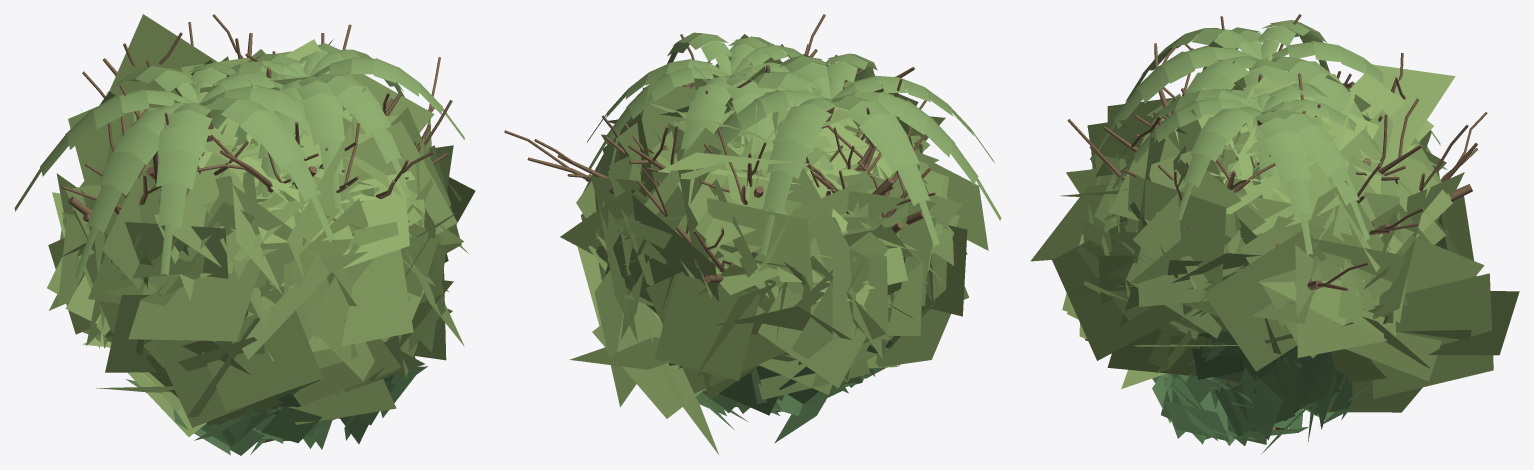
File: trees.glb
3 views of the same model, side by side, from view 1: azimuth 30°, elevation 25°; view 2: azimuth 150°, elevation 25°; view 3: azimuth 270°, elevation 25° (orthographic). The views are drawn at different scales.
Visible parts, largest first — view 1: oak2, oak0, palm1, palm0, oak1, fir1, bare0, fir0, bare2, bare1; view 2: oak2, oak0, palm1, palm0, oak1, fir1, bare2, bare0, bare1, fir0; view 3: oak2, oak0, oak1, palm0, palm1, fir1, fir0, bare0, bare1, bare2.
Boxes of the visible parts, x1,y1,x2,y2 form: oak2: (47, 14, 475, 436); oak0: (62, 39, 461, 362); palm1: (14, 62, 355, 278); palm0: (209, 43, 464, 215); oak1: (60, 51, 457, 442); fir1: (125, 69, 427, 455); bare0: (103, 24, 433, 199); fir0: (200, 68, 385, 455); bare2: (61, 22, 452, 222); bare1: (146, 14, 401, 441); oak2: (569, 64, 988, 455); oak0: (560, 34, 948, 344); palm1: (714, 53, 1001, 255); palm0: (587, 32, 833, 222); oak1: (576, 36, 936, 412); fir1: (662, 65, 900, 443); bare2: (504, 34, 936, 283); bare0: (534, 14, 929, 411); bare1: (625, 44, 871, 412); fir0: (696, 65, 878, 415); oak2: (1030, 64, 1519, 412); oak0: (1076, 53, 1464, 371); oak1: (1115, 72, 1451, 429); palm0: (1112, 83, 1385, 254); palm1: (1090, 20, 1440, 190); fir1: (1152, 75, 1372, 445); fir0: (1152, 74, 1365, 454); bare0: (1067, 14, 1424, 429); bare1: (1103, 73, 1422, 430); bare2: (1135, 16, 1487, 429).
Size of the model in its own units: 1.3 by 1 by 1.27.
